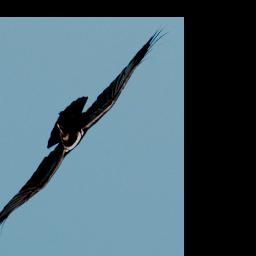Crow: (0, 25, 170, 256)
